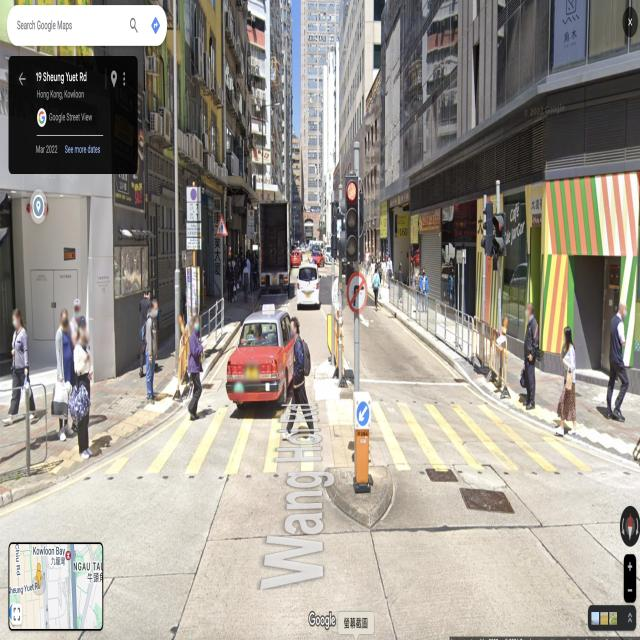Order-Sign: (347, 271, 367, 313), (186, 186, 201, 222), (356, 401, 369, 426), (248, 210, 254, 227)
Warning-Sign: (215, 214, 228, 235)
